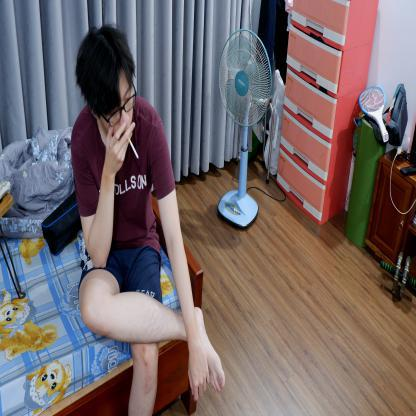cigarette: (128, 137, 139, 160)
person: (69, 20, 199, 416)
